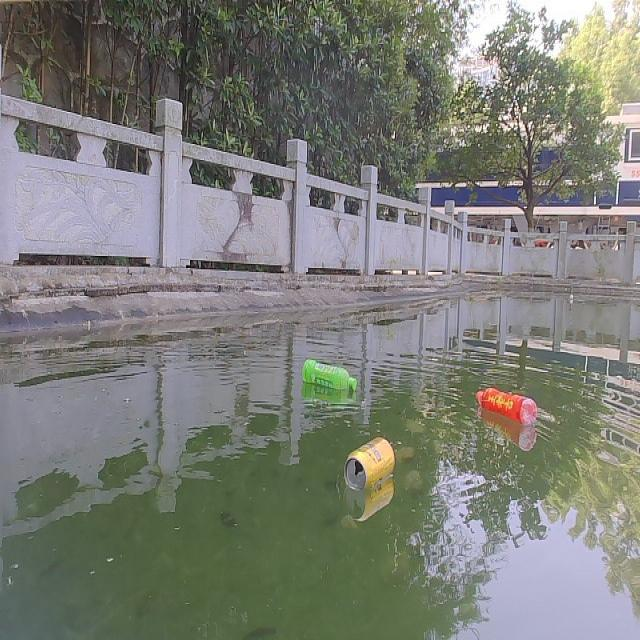bottle: (471, 380, 537, 423), (296, 354, 358, 389)
can: (339, 436, 397, 492)
